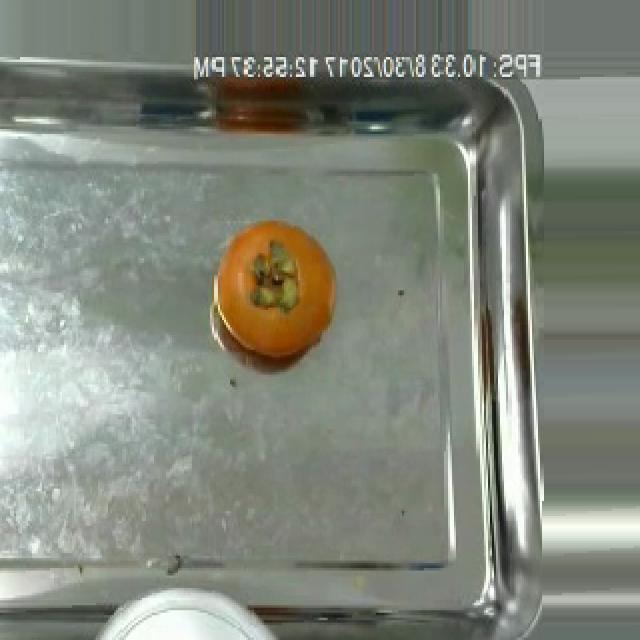Fruit: (208, 214, 344, 362)
